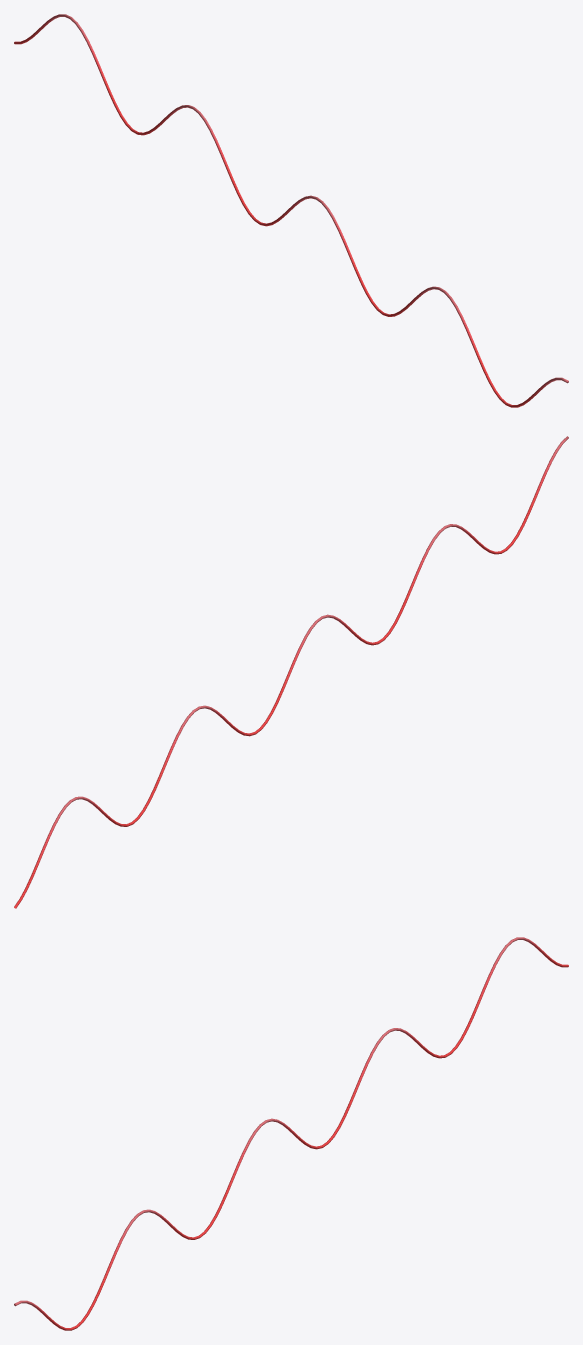
Rendered from Infrared-final.glb.
The picture shows the model from 3 angles, top to bottom: view 1: azimuth 30°, elevation 25°; view 2: azimuth 150°, elevation 25°; view 3: azimuth 330°, elevation 25°; orthographic projection.
Visible parts, largest first — view 1: infrared.001; view 2: infrared.001; view 3: infrared.001.
Part boxes in pixels (left/top/right/bottom): infrared.001: left=14, top=14, right=568, bottom=407; infrared.001: left=14, top=436, right=568, bottom=908; infrared.001: left=14, top=937, right=568, bottom=1330.
Bounding box in the file's own units: 0.0233 × 0.6331 × 9.12.
1 material, 1 textured.
